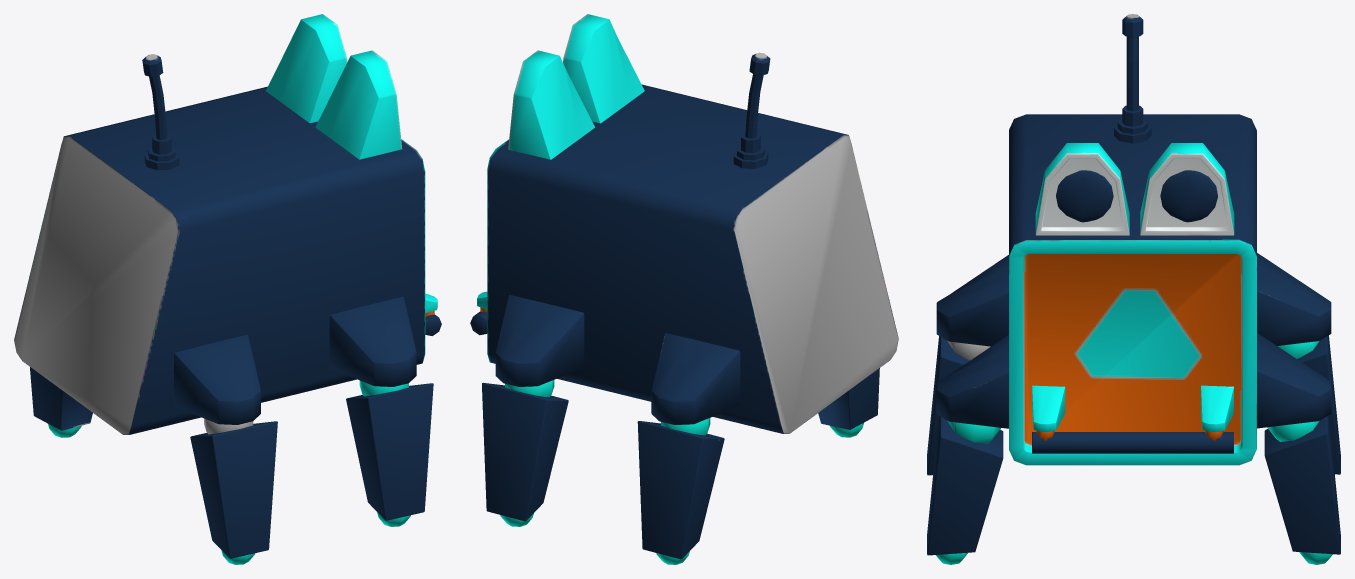
Rendered from SM_Robot_001.fbx.
The picture shows the model from 3 angles, left to right: view 1: azimuth 30°, elevation 25°; view 2: azimuth 150°, elevation 25°; view 3: azimuth 270°, elevation 25°; orthographic projection. The views are drawn at different scales.
Parts seen in each view (by area): view 1: SM_Robot_001; view 2: SM_Robot_001; view 3: SM_Robot_001.
Part boxes in pixels (box(x1,y1,x2,y2)): SM_Robot_001: box(14, 14, 441, 564); SM_Robot_001: box(470, 14, 898, 564); SM_Robot_001: box(927, 14, 1340, 564).
Size of the model in its own units: 37.61 by 39.77 by 49.65.
Materials: 1 (1 with a texture image).
